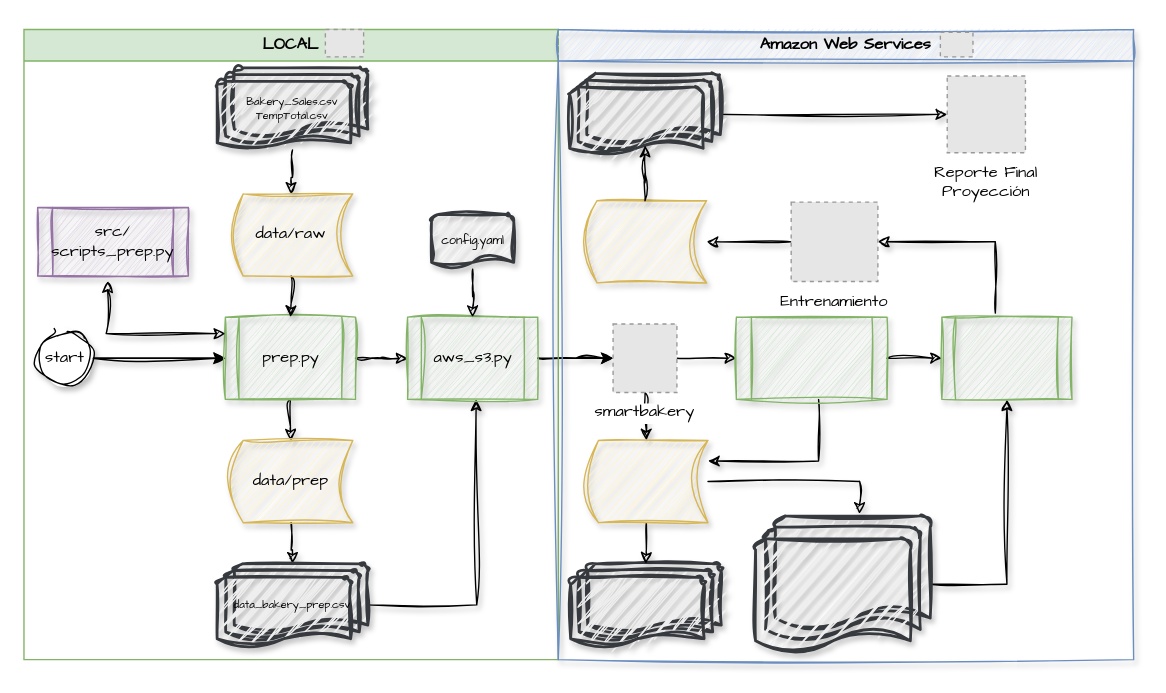
This 1166x693 diagram has some shape labels left out. Grey dashed boxes stand in for pictures. The shapes that lost their labels are listed below. From the top down, each one's centre as x and y in pixels, then its label:
At [645,116]: "prediccion.csv".
At [645,243]: "analytics_data".
At [812,359]: "prep_train_data.py".
At [1007,359]: "bakery_reg_ endpoint.ipynb".
At [647,483]: "clean_data".
At [843,585]: "train.csv test.csv validation.csv menu_codes.csv".
At [646,606]: "clean_bakery_sales.csv TempTot.csv".
